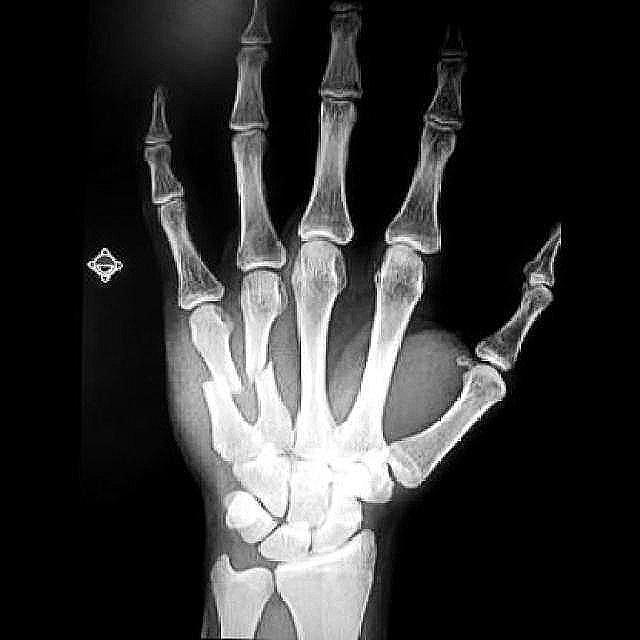bone: (234, 346, 278, 397), (202, 362, 244, 400)
